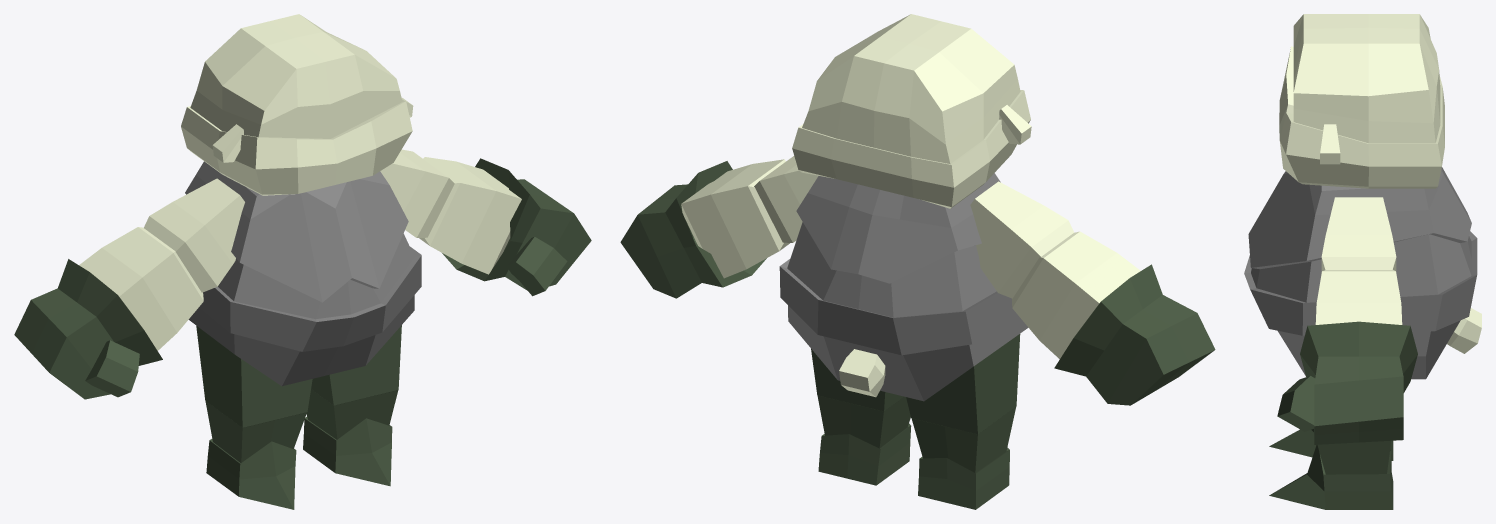
File: PlayerWIP.fbx
3 views of the same model, side by side, from view 1: azimuth 30°, elevation 25°; view 2: azimuth 150°, elevation 25°; view 3: azimuth 270°, elevation 25° (orthographic). The views are drawn at different scales.
Visible parts, largest first — view 1: Torso, Head, RightHand, RightLowerArm, RightLowerLeg, LeftLowerArm, LeftLowerLeg, RightUpperArm, RightUpperLeg, LeftHand, LeftUpperArm, LeftUpperLeg (+3 smaller); view 2: Torso, Head, RightHand, RightLowerArm, LeftHand, LeftLowerArm, RightLowerLeg, RightUpperArm, LeftLowerLeg, RightUpperLeg, LeftUpperArm, Tail (+2 smaller); view 3: Head, Torso, LeftHand, LeftLowerLeg, LeftUpperArm, LeftLowerArm, LeftFinger, Tail, RightLowerLeg, LeftEar.
Part boxes in pixels (<box>): Torso: <box>185,161,421,386</box>; Head: <box>181,14,412,195</box>; RightHand: <box>14,259,162,399</box>; RightLowerArm: <box>79,227,203,350</box>; RightLowerLeg: <box>205,401,306,509</box>; LeftLowerArm: <box>419,157,521,274</box>; LeftLowerLeg: <box>303,389,398,486</box>; RightUpperArm: <box>144,178,244,292</box>; RightUpperLeg: <box>196,326,312,427</box>; LeftHand: <box>442,158,591,290</box>; LeftUpperArm: <box>380,149,454,237</box>; LeftUpperLeg: <box>311,325,401,405</box>; Torso: <box>779,173,1028,401</box>; Head: <box>792,14,1030,208</box>; RightHand: <box>1054,264,1215,405</box>; RightLowerArm: <box>1012,231,1140,359</box>; LeftHand: <box>620,161,766,298</box>; LeftLowerArm: <box>681,159,789,278</box>; RightLowerLeg: <box>911,406,1016,509</box>; RightUpperArm: <box>970,181,1073,298</box>; LeftLowerLeg: <box>817,395,911,485</box>; RightUpperLeg: <box>906,334,1020,434</box>; LeftUpperArm: <box>754,156,818,242</box>; Tail: <box>839,349,885,397</box>; Head: <box>1279,14,1444,188</box>; Torso: <box>1244,167,1477,379</box>; LeftHand: <box>1300,321,1417,444</box>; LeftLowerLeg: <box>1269,440,1393,509</box>; LeftUpperArm: <box>1321,197,1396,271</box>; LeftLowerArm: <box>1315,270,1402,324</box>; LeftFinger: <box>1277,375,1315,431</box>; Tail: <box>1447,308,1481,353</box>; RightLowerLeg: <box>1269,429,1393,460</box>; LeftEar: <box>1320,124,1340,164</box>.
Bounding box in the file's own units: 975 × 730 × 355.
